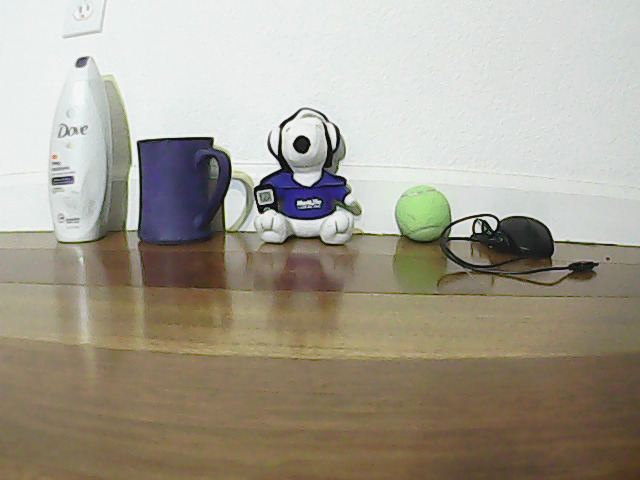ball: (398, 178, 451, 245)
mouse: (494, 207, 557, 266)
mug: (137, 123, 233, 248)
snoopy: (265, 94, 358, 248)
soap: (52, 42, 109, 245)
